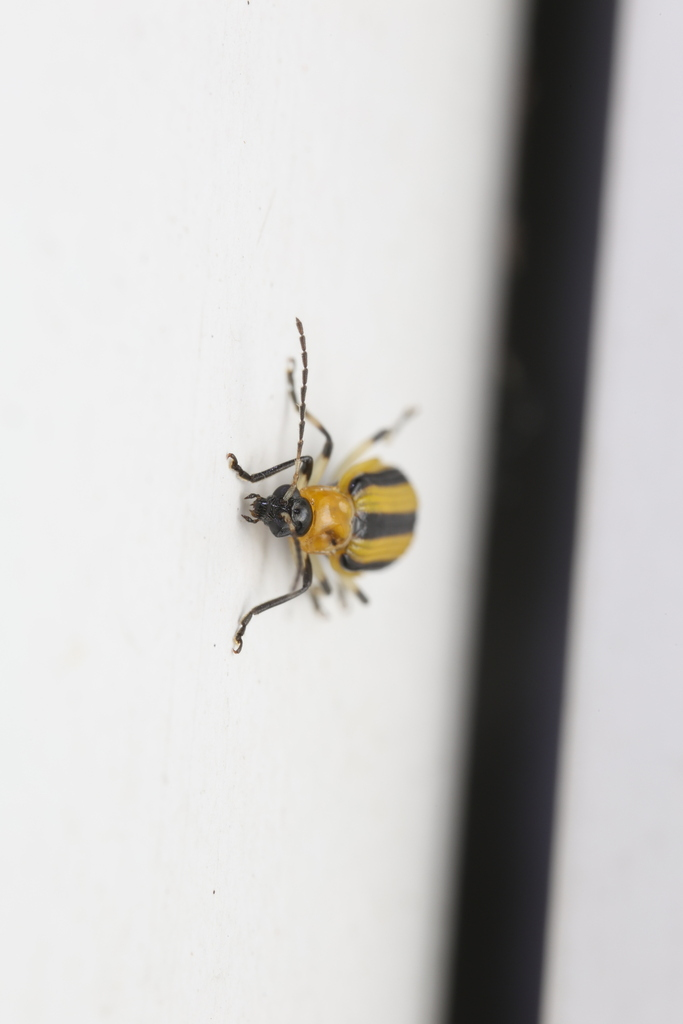potato_beetle: (147, 257, 491, 729)
